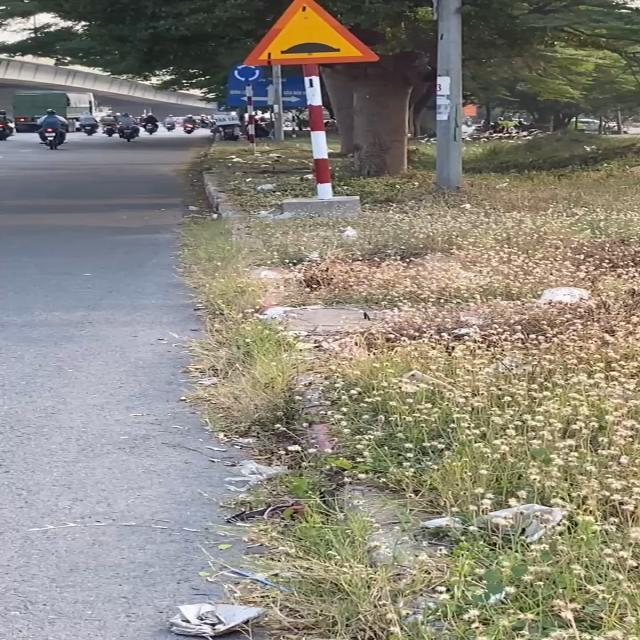221-duong-go-ghe: (242, 1, 382, 67)
303-noi-giao-nhau-chay-theo-vong-xuyen: (230, 64, 262, 85)
